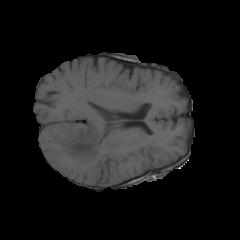glioma: (44, 115, 125, 173)
